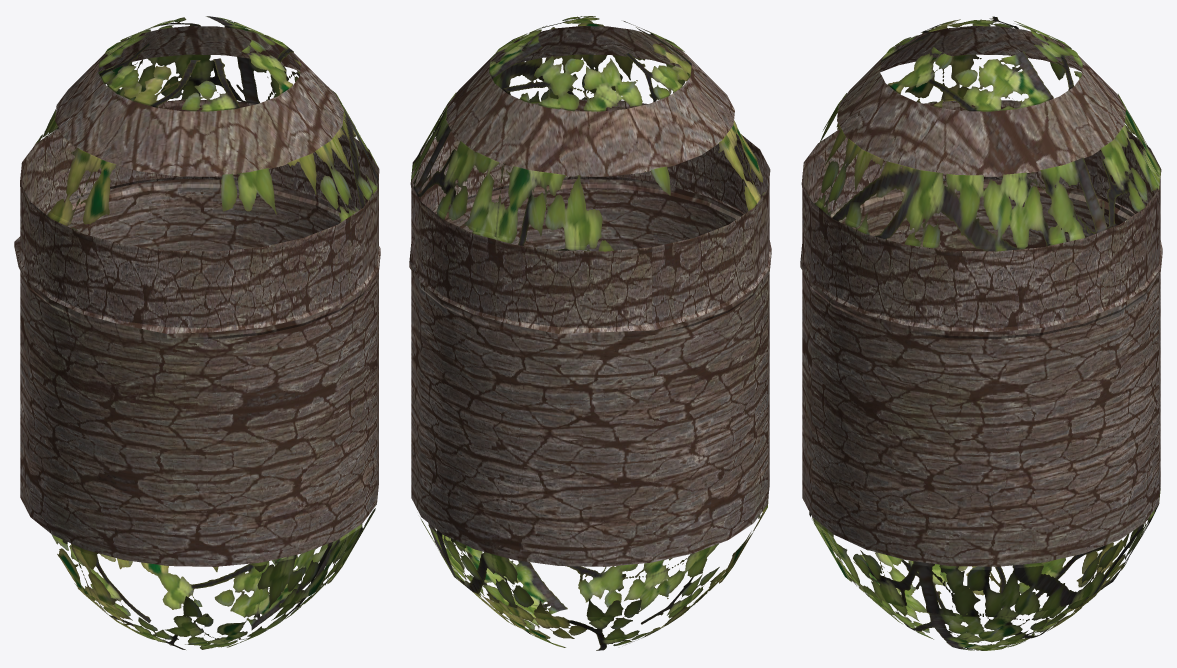
Rendered from OilTank_medium.FBX.
The picture shows the model from 3 angles, left to right: view 1: azimuth 30°, elevation 25°; view 2: azimuth 150°, elevation 25°; view 3: azimuth 270°, elevation 25°; orthographic projection.
Parts seen in each view (by area): view 1: Object003; view 2: Object003; view 3: Object003.
Part boxes in pixels (x1,y1,x2,y2): Object003: [14, 16, 380, 649]; Object003: [409, 16, 771, 650]; Object003: [800, 16, 1162, 650].
Bounding box in the file's own units: 5.66 × 5.66 × 10.56.
